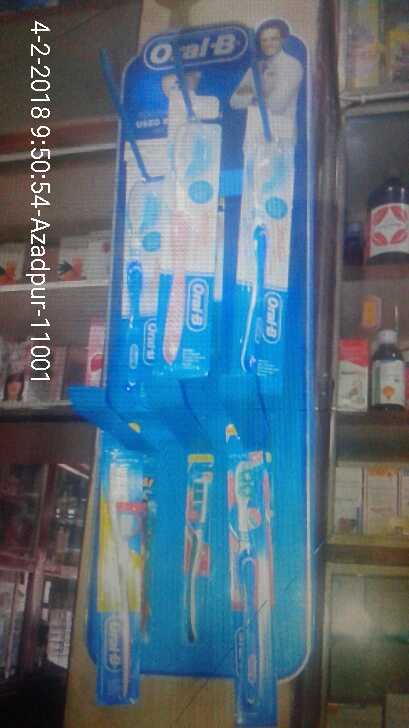oralb: (157, 103, 218, 375), (233, 136, 296, 373), (226, 465, 282, 718), (99, 451, 138, 699), (119, 161, 157, 411)
